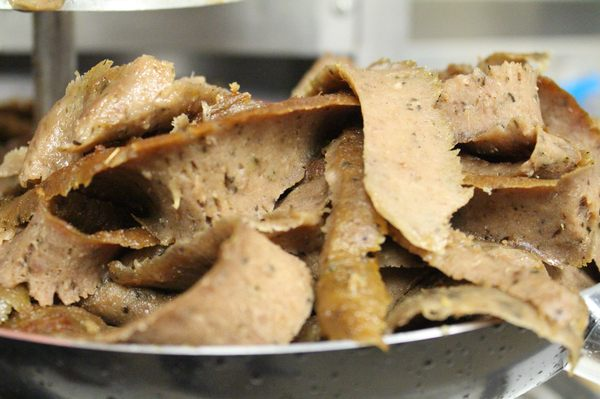soup: (1, 55, 361, 349), (294, 52, 599, 358)
